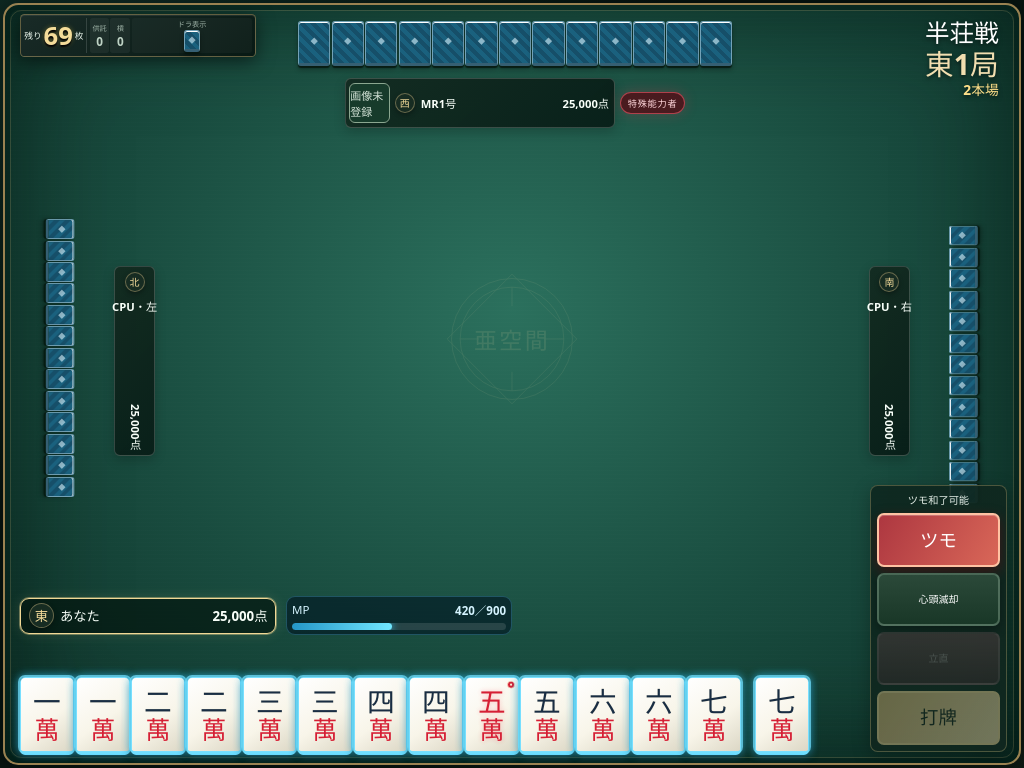
Scenario: プレイヤースキル1-14の画面操作 › 発動すると本場とMPを更新してボタンを消す
This screenshot has width=1024, height=768.
Click the button "心頭滅却" at (938, 599), box [877, 572, 1000, 626]
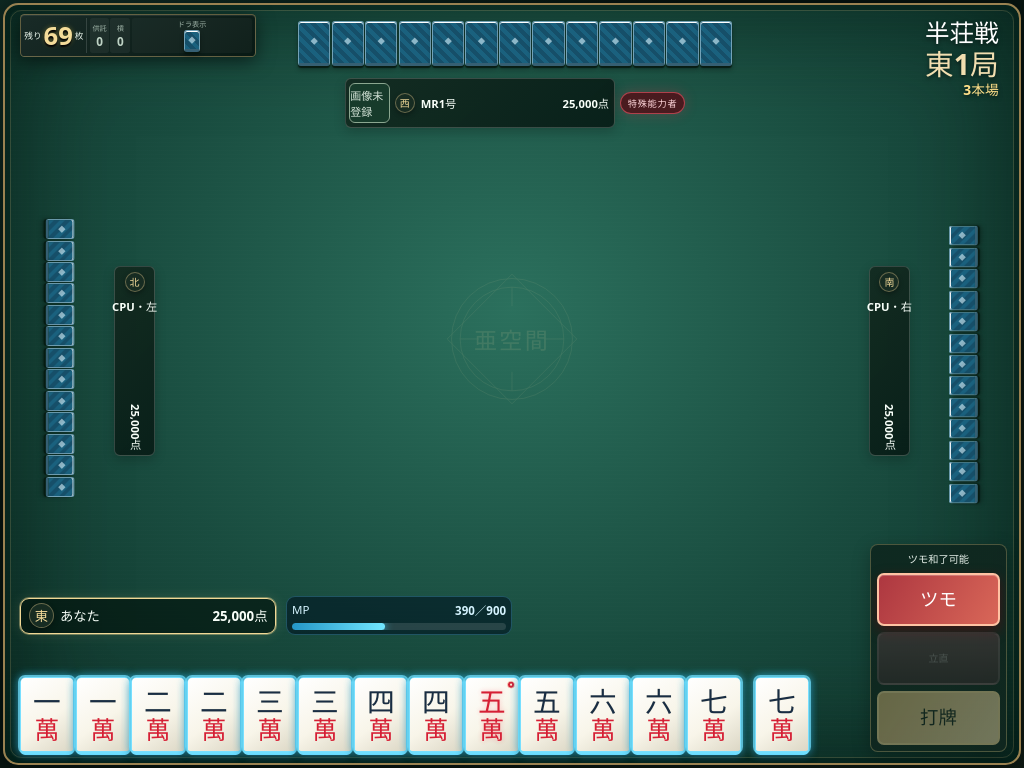
Check: the text "3本場" is shown, box [963, 83, 999, 98]
Check: the button "心頭滅却" is gone
